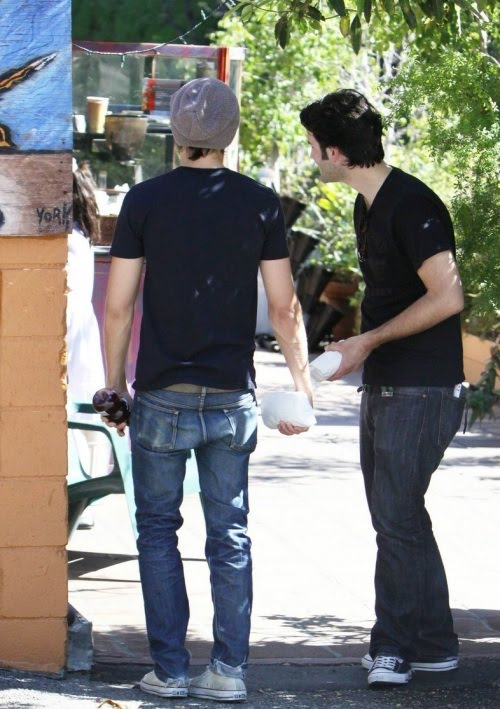Person: (93, 76, 315, 702), (297, 88, 465, 690)
